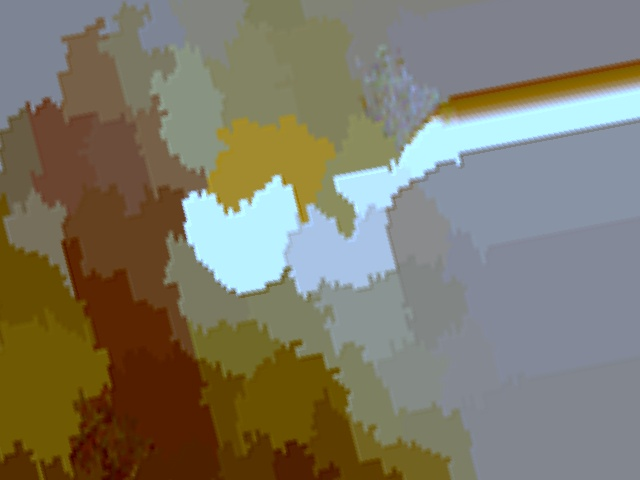two: (201, 162, 253, 217)
